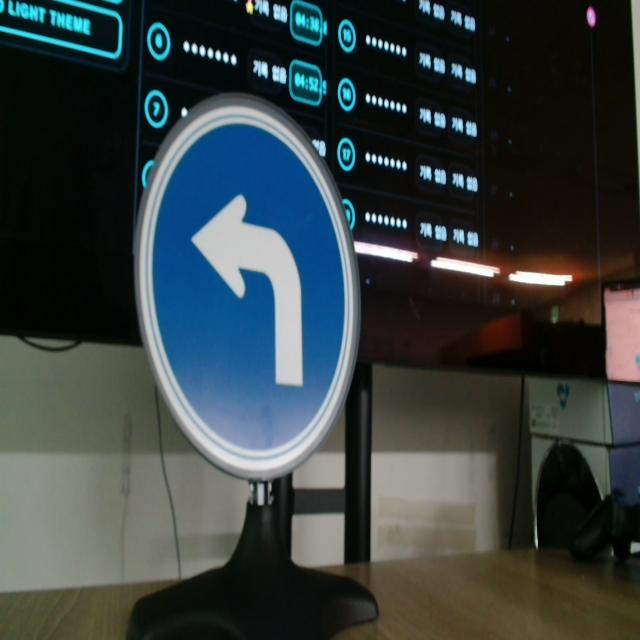left_direction: (134, 90, 361, 489)
